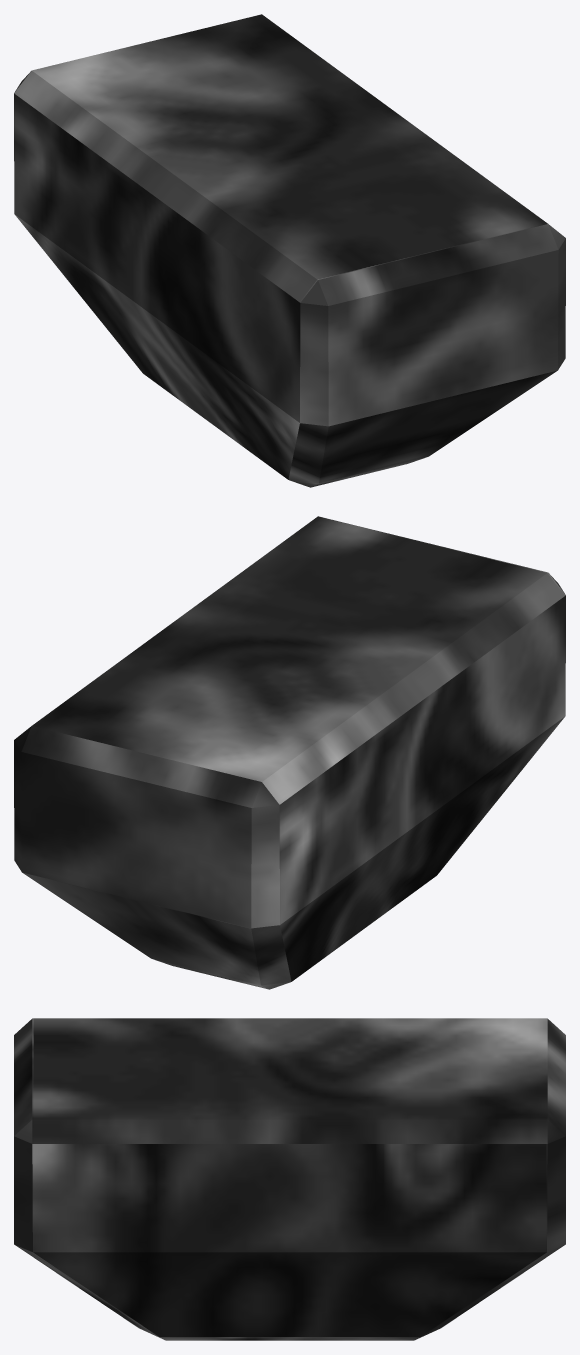
Rendered from AssemblyBlockPartsB_bake.dae.
3 views of the same model, one above another, from view 1: azimuth 30°, elevation 25°; view 2: azimuth 150°, elevation 25°; view 3: azimuth 270°, elevation 25° (orthographic). The views are drawn at different scales.
Visible parts, largest first — view 1: m3; view 2: m3; view 3: m3.
Boxes of the visible parts, box(x1,y1,x2,y2) form: m3: box(14, 14, 565, 487); m3: box(14, 516, 565, 989); m3: box(14, 1018, 565, 1340).
Bounding box in the file's own units: 300 × 300 × 600.
Materials: 5 (5 with a texture image).
